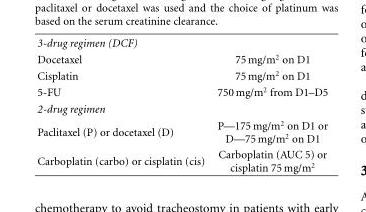table: (36, 36, 327, 173)
table column: (36, 36, 210, 173), (210, 36, 327, 173)
table projected row header: (36, 100, 327, 116), (36, 36, 327, 50)
table row: (36, 116, 327, 146), (36, 146, 327, 173), (36, 66, 327, 83), (36, 83, 327, 100), (36, 50, 327, 66), (36, 100, 327, 116), (36, 36, 327, 50)
